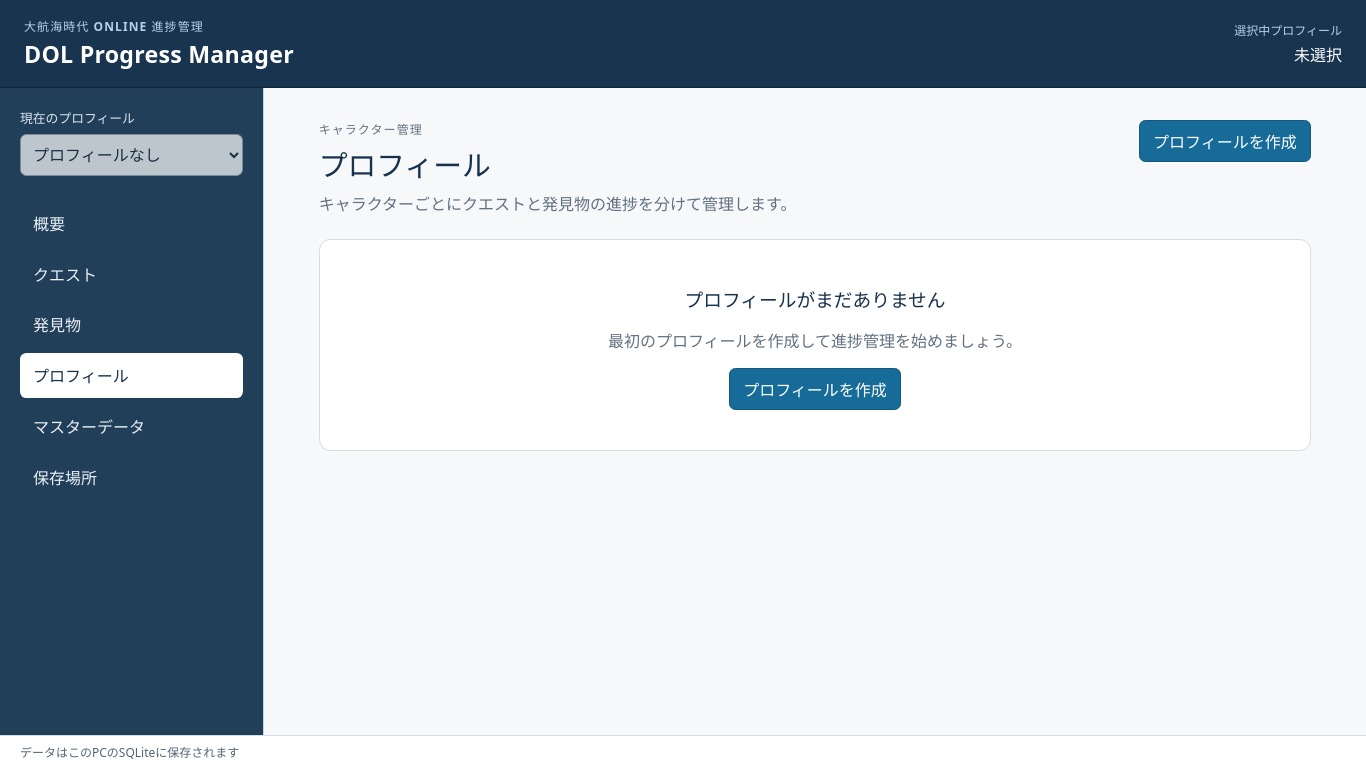
Test case: Master Data UI › shows zero master counts
Expected: the heading "プロフィール" is shown, top-left (319, 145), bottom-right (491, 184)
Click the button "マスターデータ" at coordinates (132, 426), box top-left (20, 403), bottom-right (243, 448)
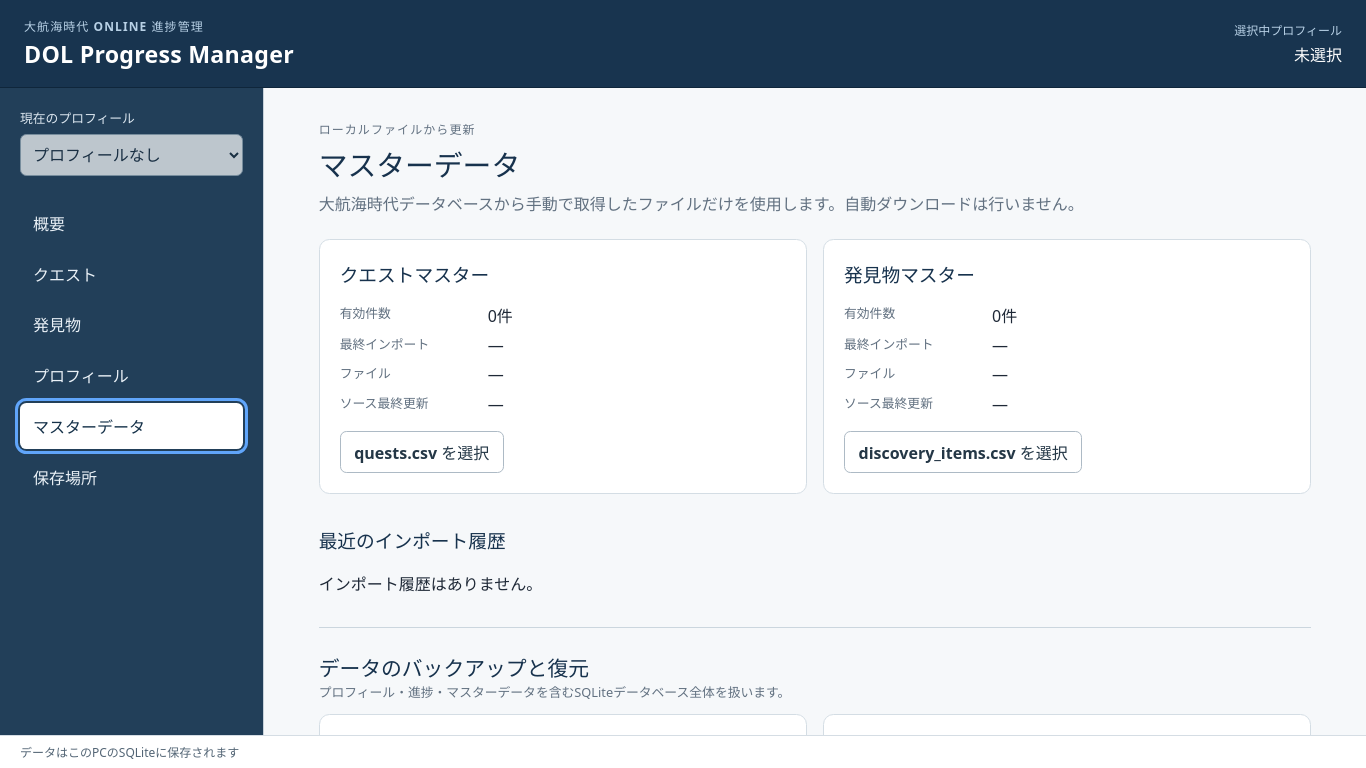
Now the heading "マスターデータ" is shown, box top-left (319, 145), bottom-right (520, 184)
Now the text "0件" is shown 2 times, box top-left (488, 305), bottom-right (513, 327); top-left (992, 305), bottom-right (1017, 327)
Now the text "インポート履歴はありません。" is shown, box top-left (319, 573), bottom-right (542, 595)
